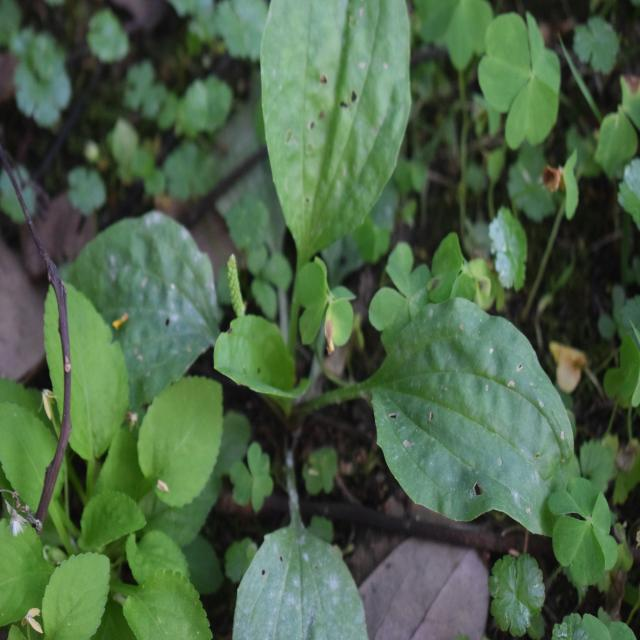plantain: (105, 0, 568, 540)
